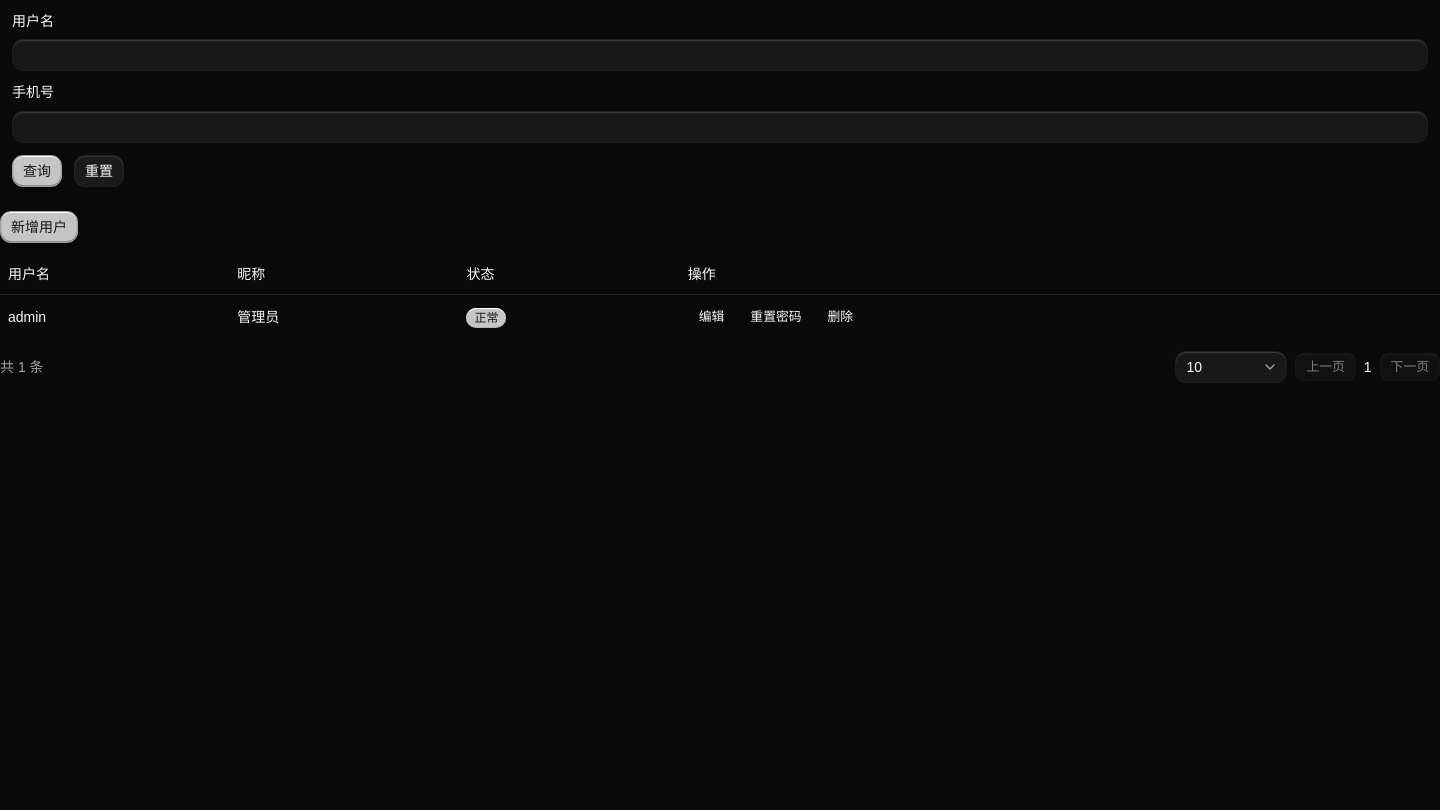
Test case: Users page › requires deptId before create (empty dept rejected client-side)
Expected: the text "admin" is shown, [0, 294, 229, 339]
Click the button "新增用户".
click(39, 226)  # box [0, 210, 78, 242]
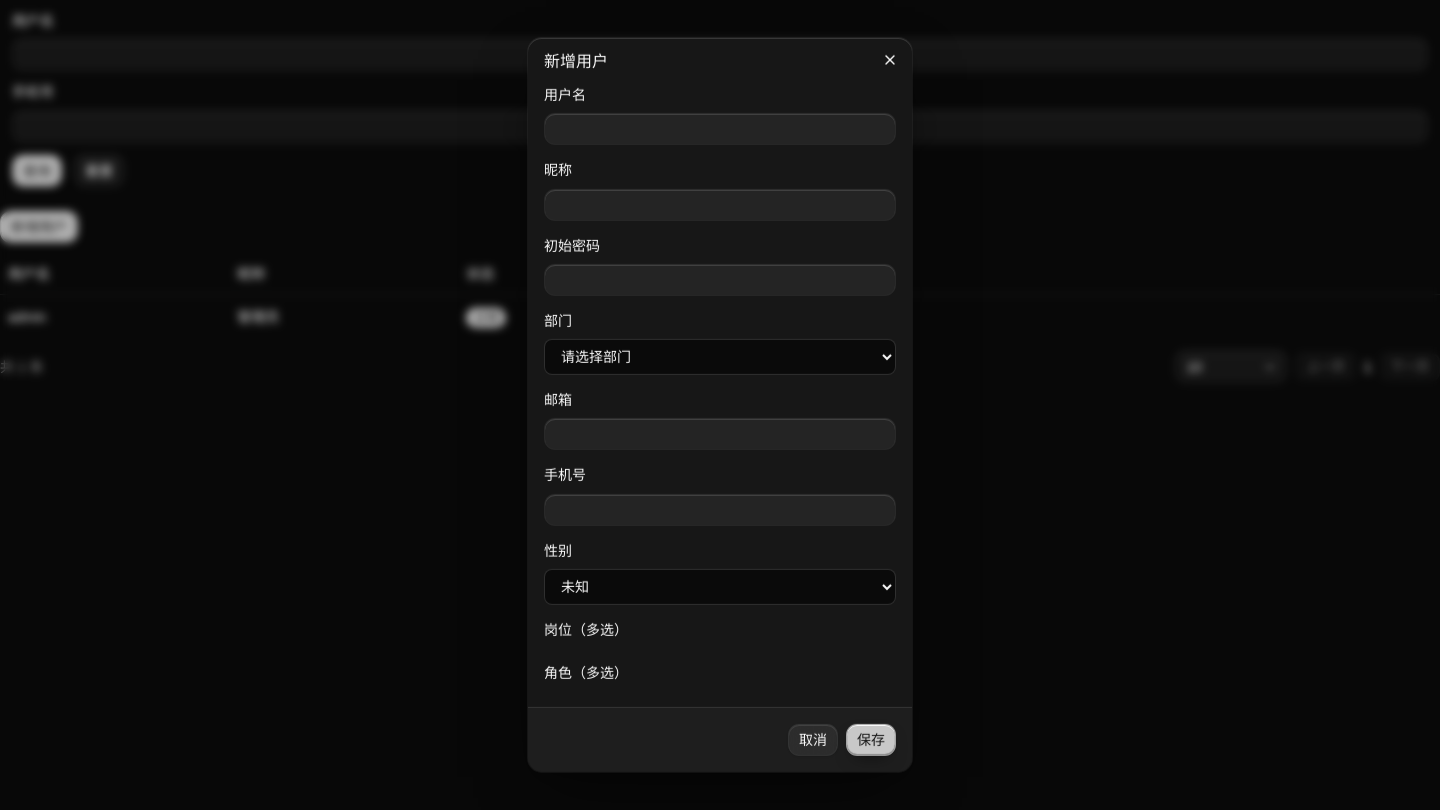
Type "u1" into the field labelled "用户名".
click(720, 129); type("u1")  # box [544, 113, 896, 145]
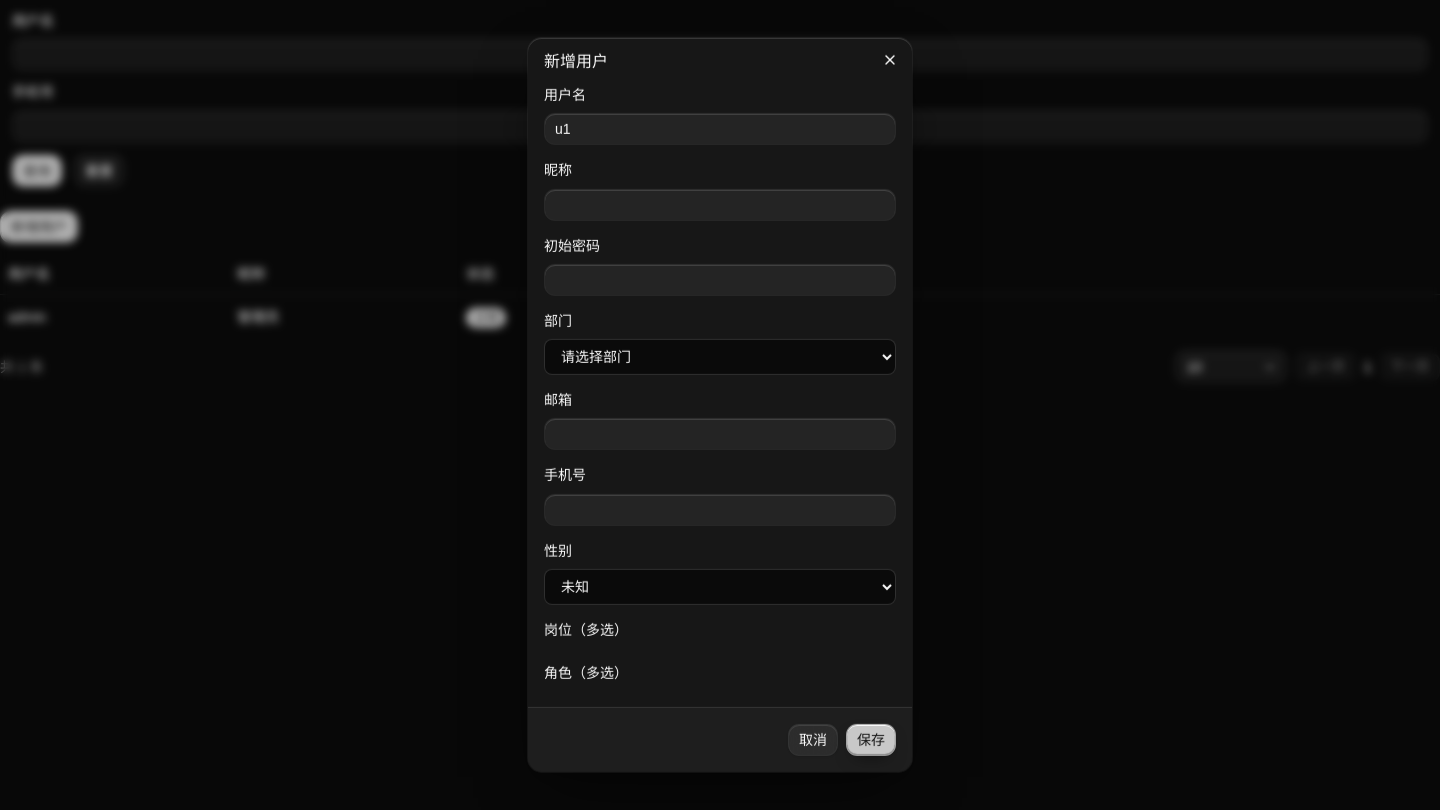
Type "n1" into the field labelled "昵称".
click(720, 204); type("n1")  # box [544, 188, 896, 220]
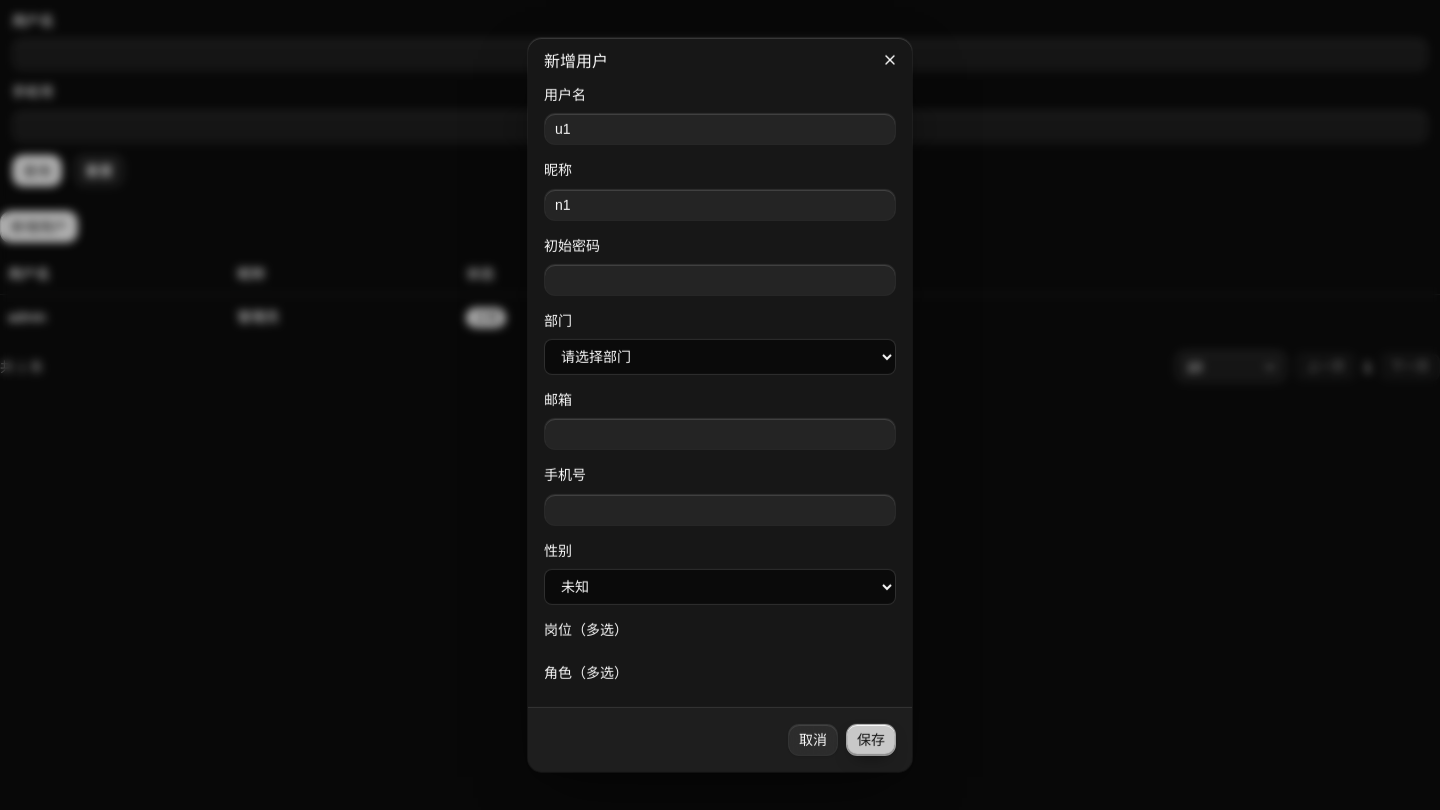
Type "pass123" into the password field labelled "初始密码".
click(720, 280); type("pass123")  # box [544, 264, 896, 296]
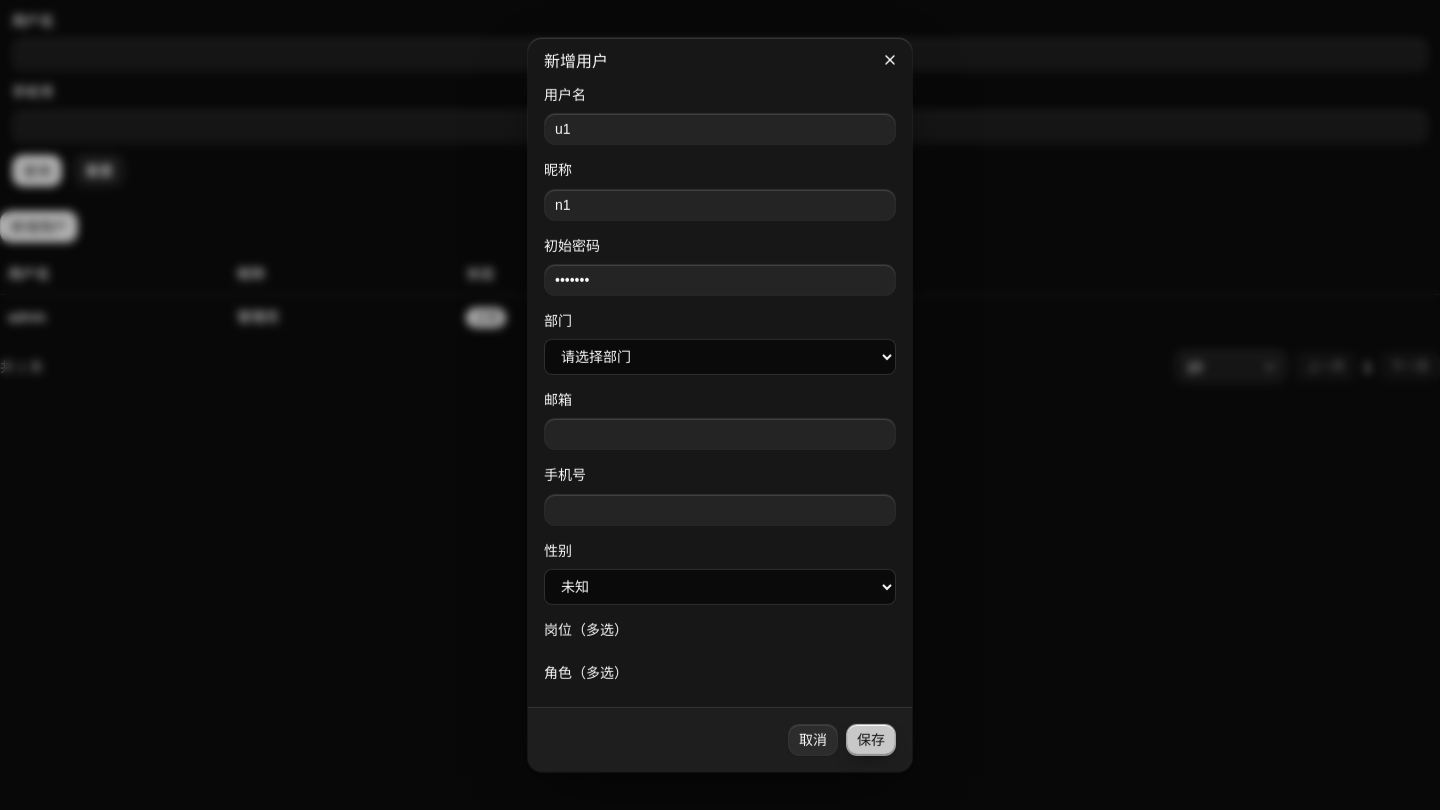
Click the button "保存".
click(871, 740)  # box [846, 724, 896, 756]
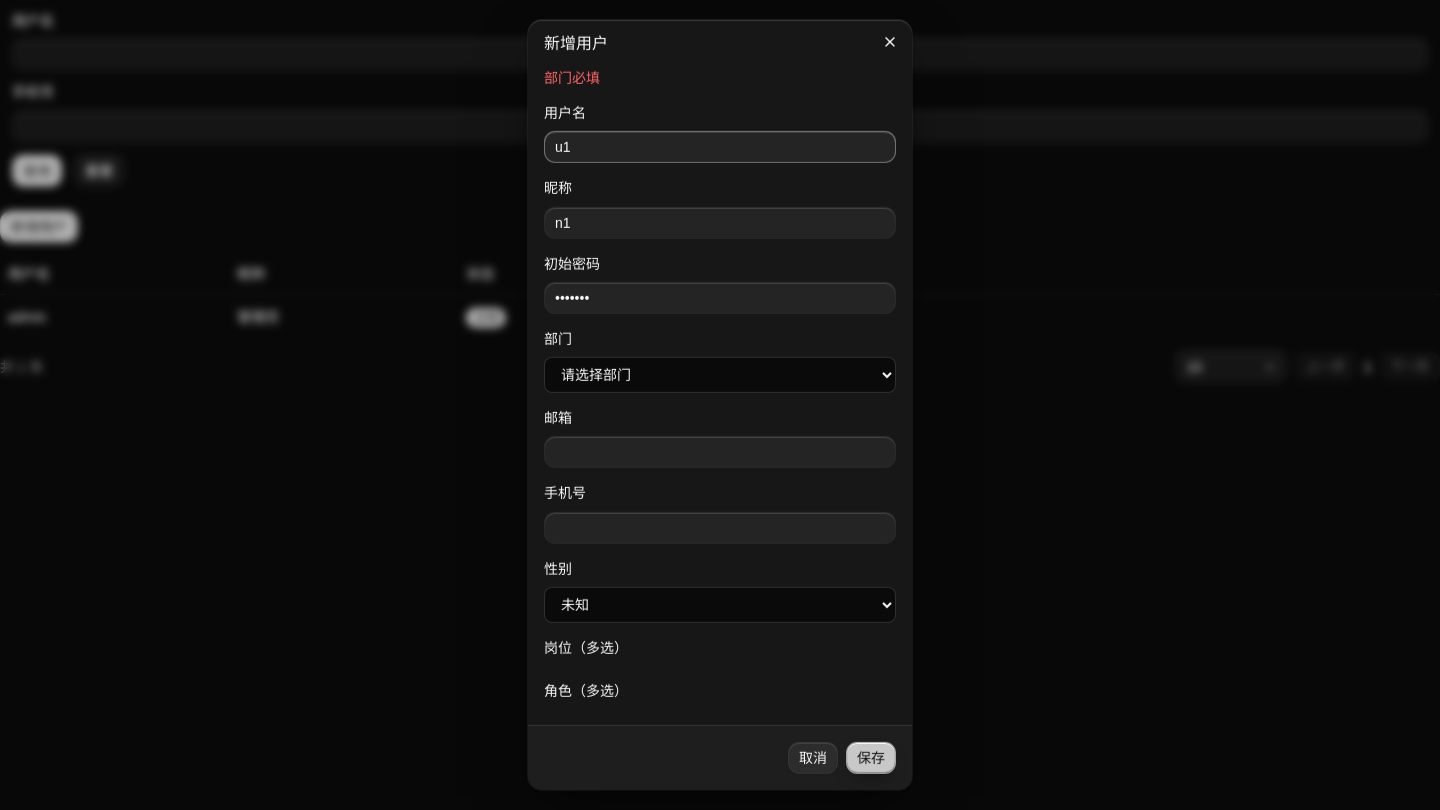
Now the text "部门必填" is shown, box [544, 70, 600, 86]
